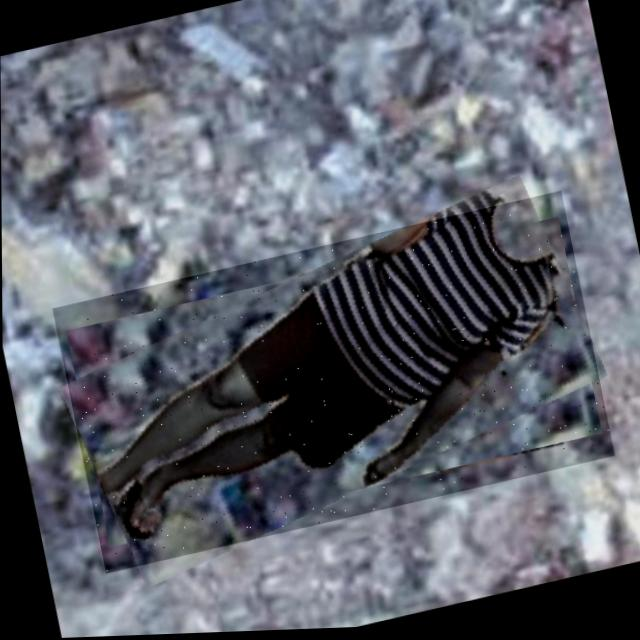Person in Rubble: (51, 194, 614, 576)
